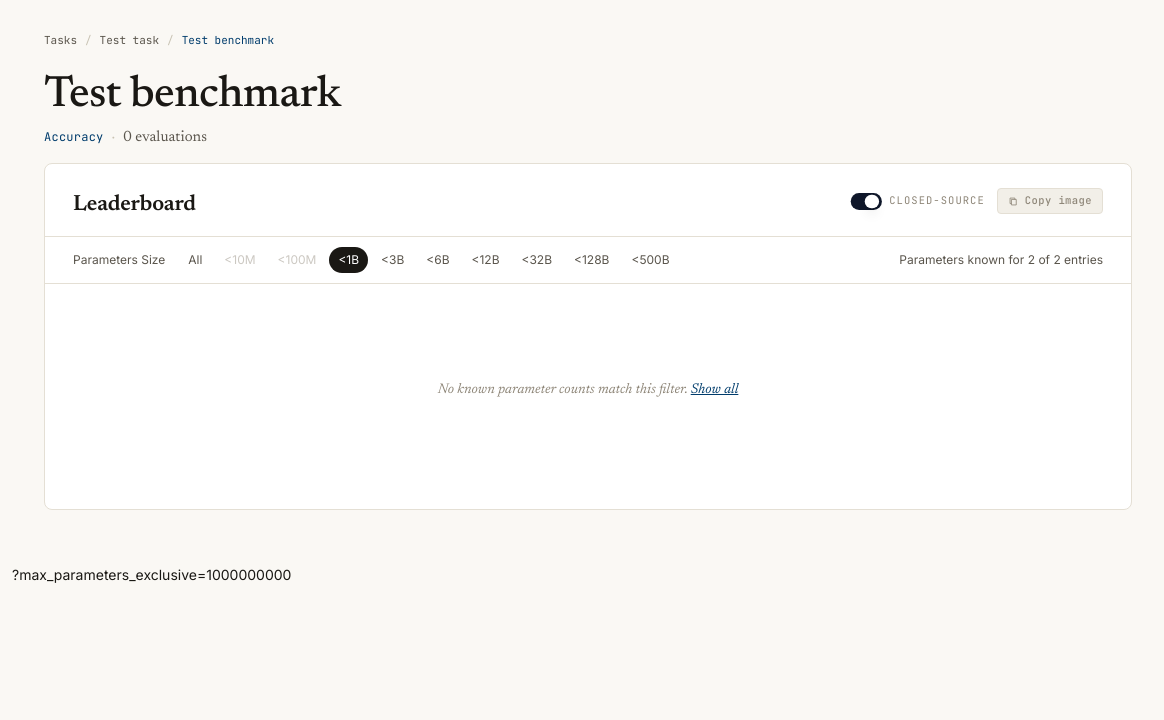
BenchmarkDetailView parameter filters › filters locally, reports local coverage, reranks ties, and clears an empty filter
Expected: the text "Parameters known for 2 of 2 entries" is shown, [899,251,1103,269]
Expected: the text "No known parameter counts match this filter. Show all" is shown, [438,380,738,401]
Click the button "Show all" at (715, 390), box [691,380,738,401]
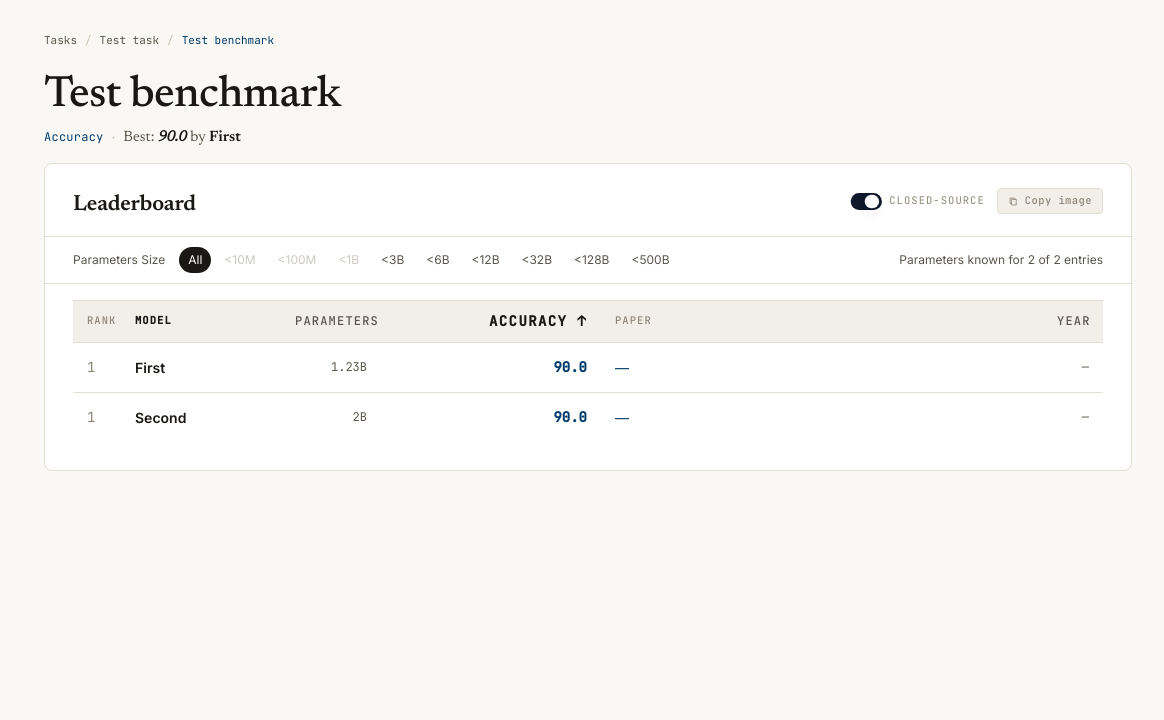
Expected: the text "1" is shown 2 times, [73,343,121,393]; [73,393,121,442]
